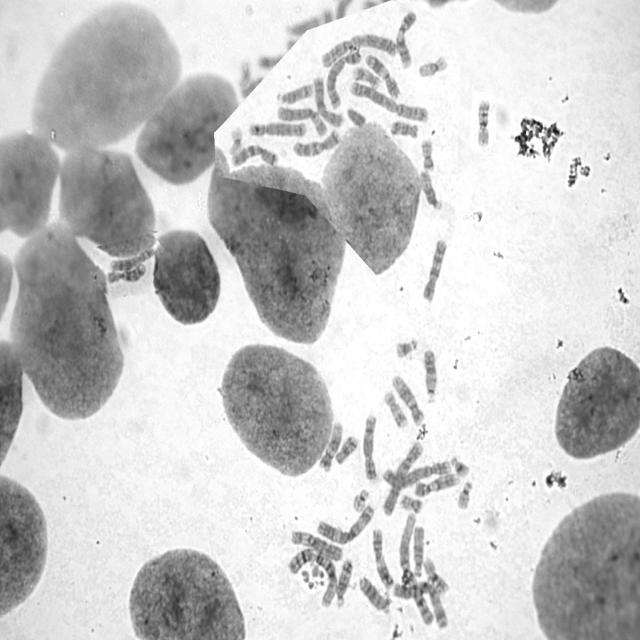A1: (396, 510, 435, 628), (286, 544, 338, 610)
A2: (348, 78, 430, 122), (319, 29, 398, 67)
A3: (390, 577, 450, 631), (315, 501, 376, 545)
B4: (380, 438, 424, 518), (380, 457, 452, 489)
B5: (323, 44, 363, 110), (247, 118, 308, 138)
C10: (421, 234, 448, 304), (106, 262, 147, 284)
C11: (363, 50, 402, 100), (369, 525, 394, 589)
C12: (390, 370, 426, 426), (317, 418, 344, 472)
C6: (274, 101, 328, 138), (288, 527, 342, 562)
C7: (290, 126, 342, 158), (229, 141, 280, 168)
C8: (360, 410, 380, 481), (107, 244, 156, 272)
C9: (394, 8, 417, 70), (411, 469, 460, 498)
D13: (357, 572, 392, 615), (421, 344, 438, 404)
D14: (334, 555, 354, 609), (276, 79, 316, 105)
D15: (418, 167, 444, 212), (410, 522, 425, 578)
E16: (421, 553, 450, 596), (473, 95, 491, 148)
E17: (381, 386, 409, 429), (350, 62, 382, 89)
E18: (333, 432, 360, 466), (388, 116, 420, 140)
F19: (415, 52, 449, 80), (227, 123, 244, 156)
F20: (397, 490, 424, 514), (419, 135, 436, 173)
G21: (392, 334, 420, 360), (448, 452, 471, 479)
G22: (454, 476, 474, 511), (350, 485, 370, 513)
X: (310, 73, 344, 128)
Y: (345, 103, 367, 129)
